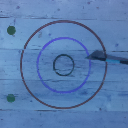Axe Tip: (85, 57, 97, 60)
